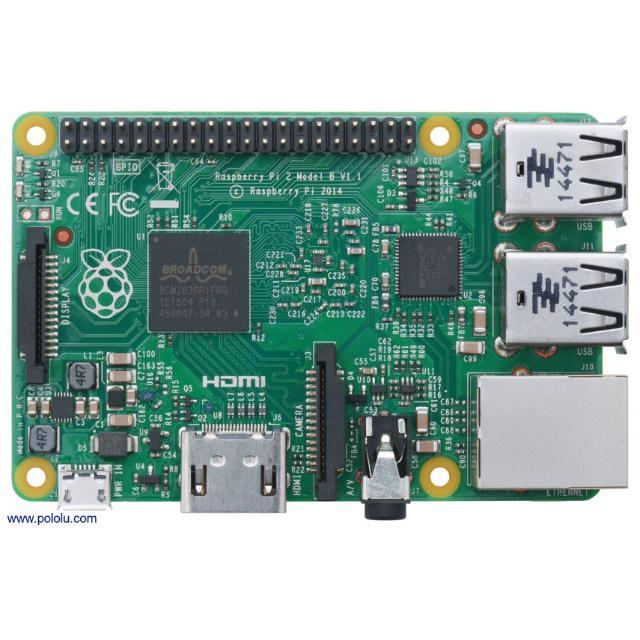Raspberry-Pi-2-B: (12, 114, 629, 519)
